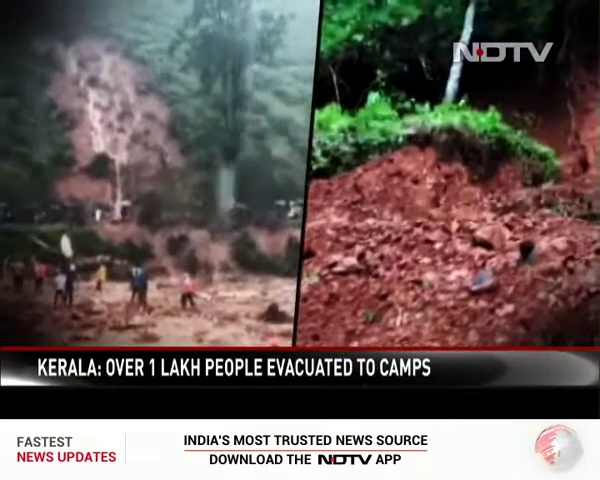person: (181, 271, 199, 311), (10, 259, 25, 294), (132, 262, 144, 305), (67, 264, 78, 309), (55, 269, 67, 308), (35, 262, 47, 298)
vehicle: (278, 197, 302, 224)
